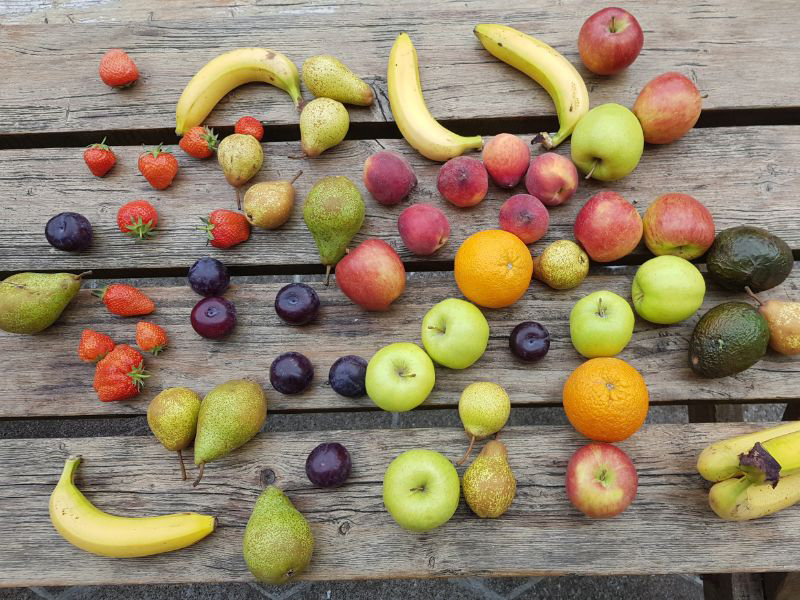banana: (14, 465, 222, 562)
strawberry: (108, 194, 161, 245), (93, 274, 157, 315), (95, 43, 147, 93), (134, 146, 181, 193), (77, 140, 120, 179)
